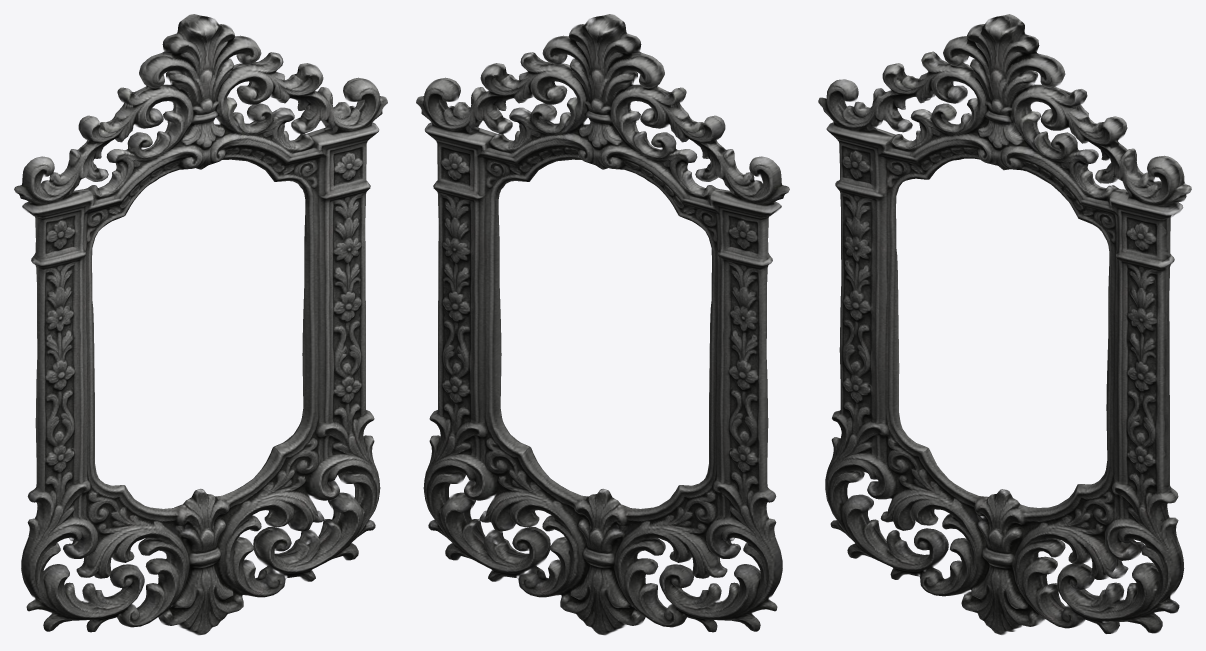
Rendered from Window 02 GLB.glb.
3 views of the same model, side by side, from view 1: azimuth 30°, elevation 25°; view 2: azimuth 150°, elevation 25°; view 3: azimuth 330°, elevation 25° (orthographic).
Parts seen in each view (by area): view 1: Plane; view 2: Plane; view 3: Plane.
Part boxes in pixels (bbox=[...]): Plane: bbox=[14, 14, 387, 635]; Plane: bbox=[416, 14, 789, 635]; Plane: bbox=[818, 14, 1191, 634].
Bounding box in the file's own units: 1.64 × 2.61 × 0.146.
Materials: 1 (1 with a texture image).
